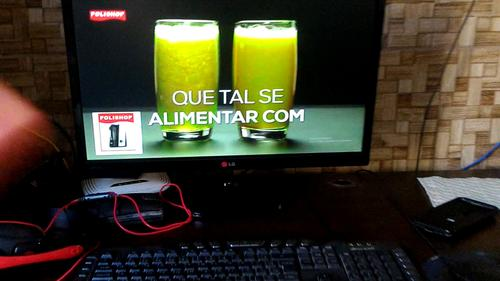Polishop #1: (92, 111, 143, 155)
